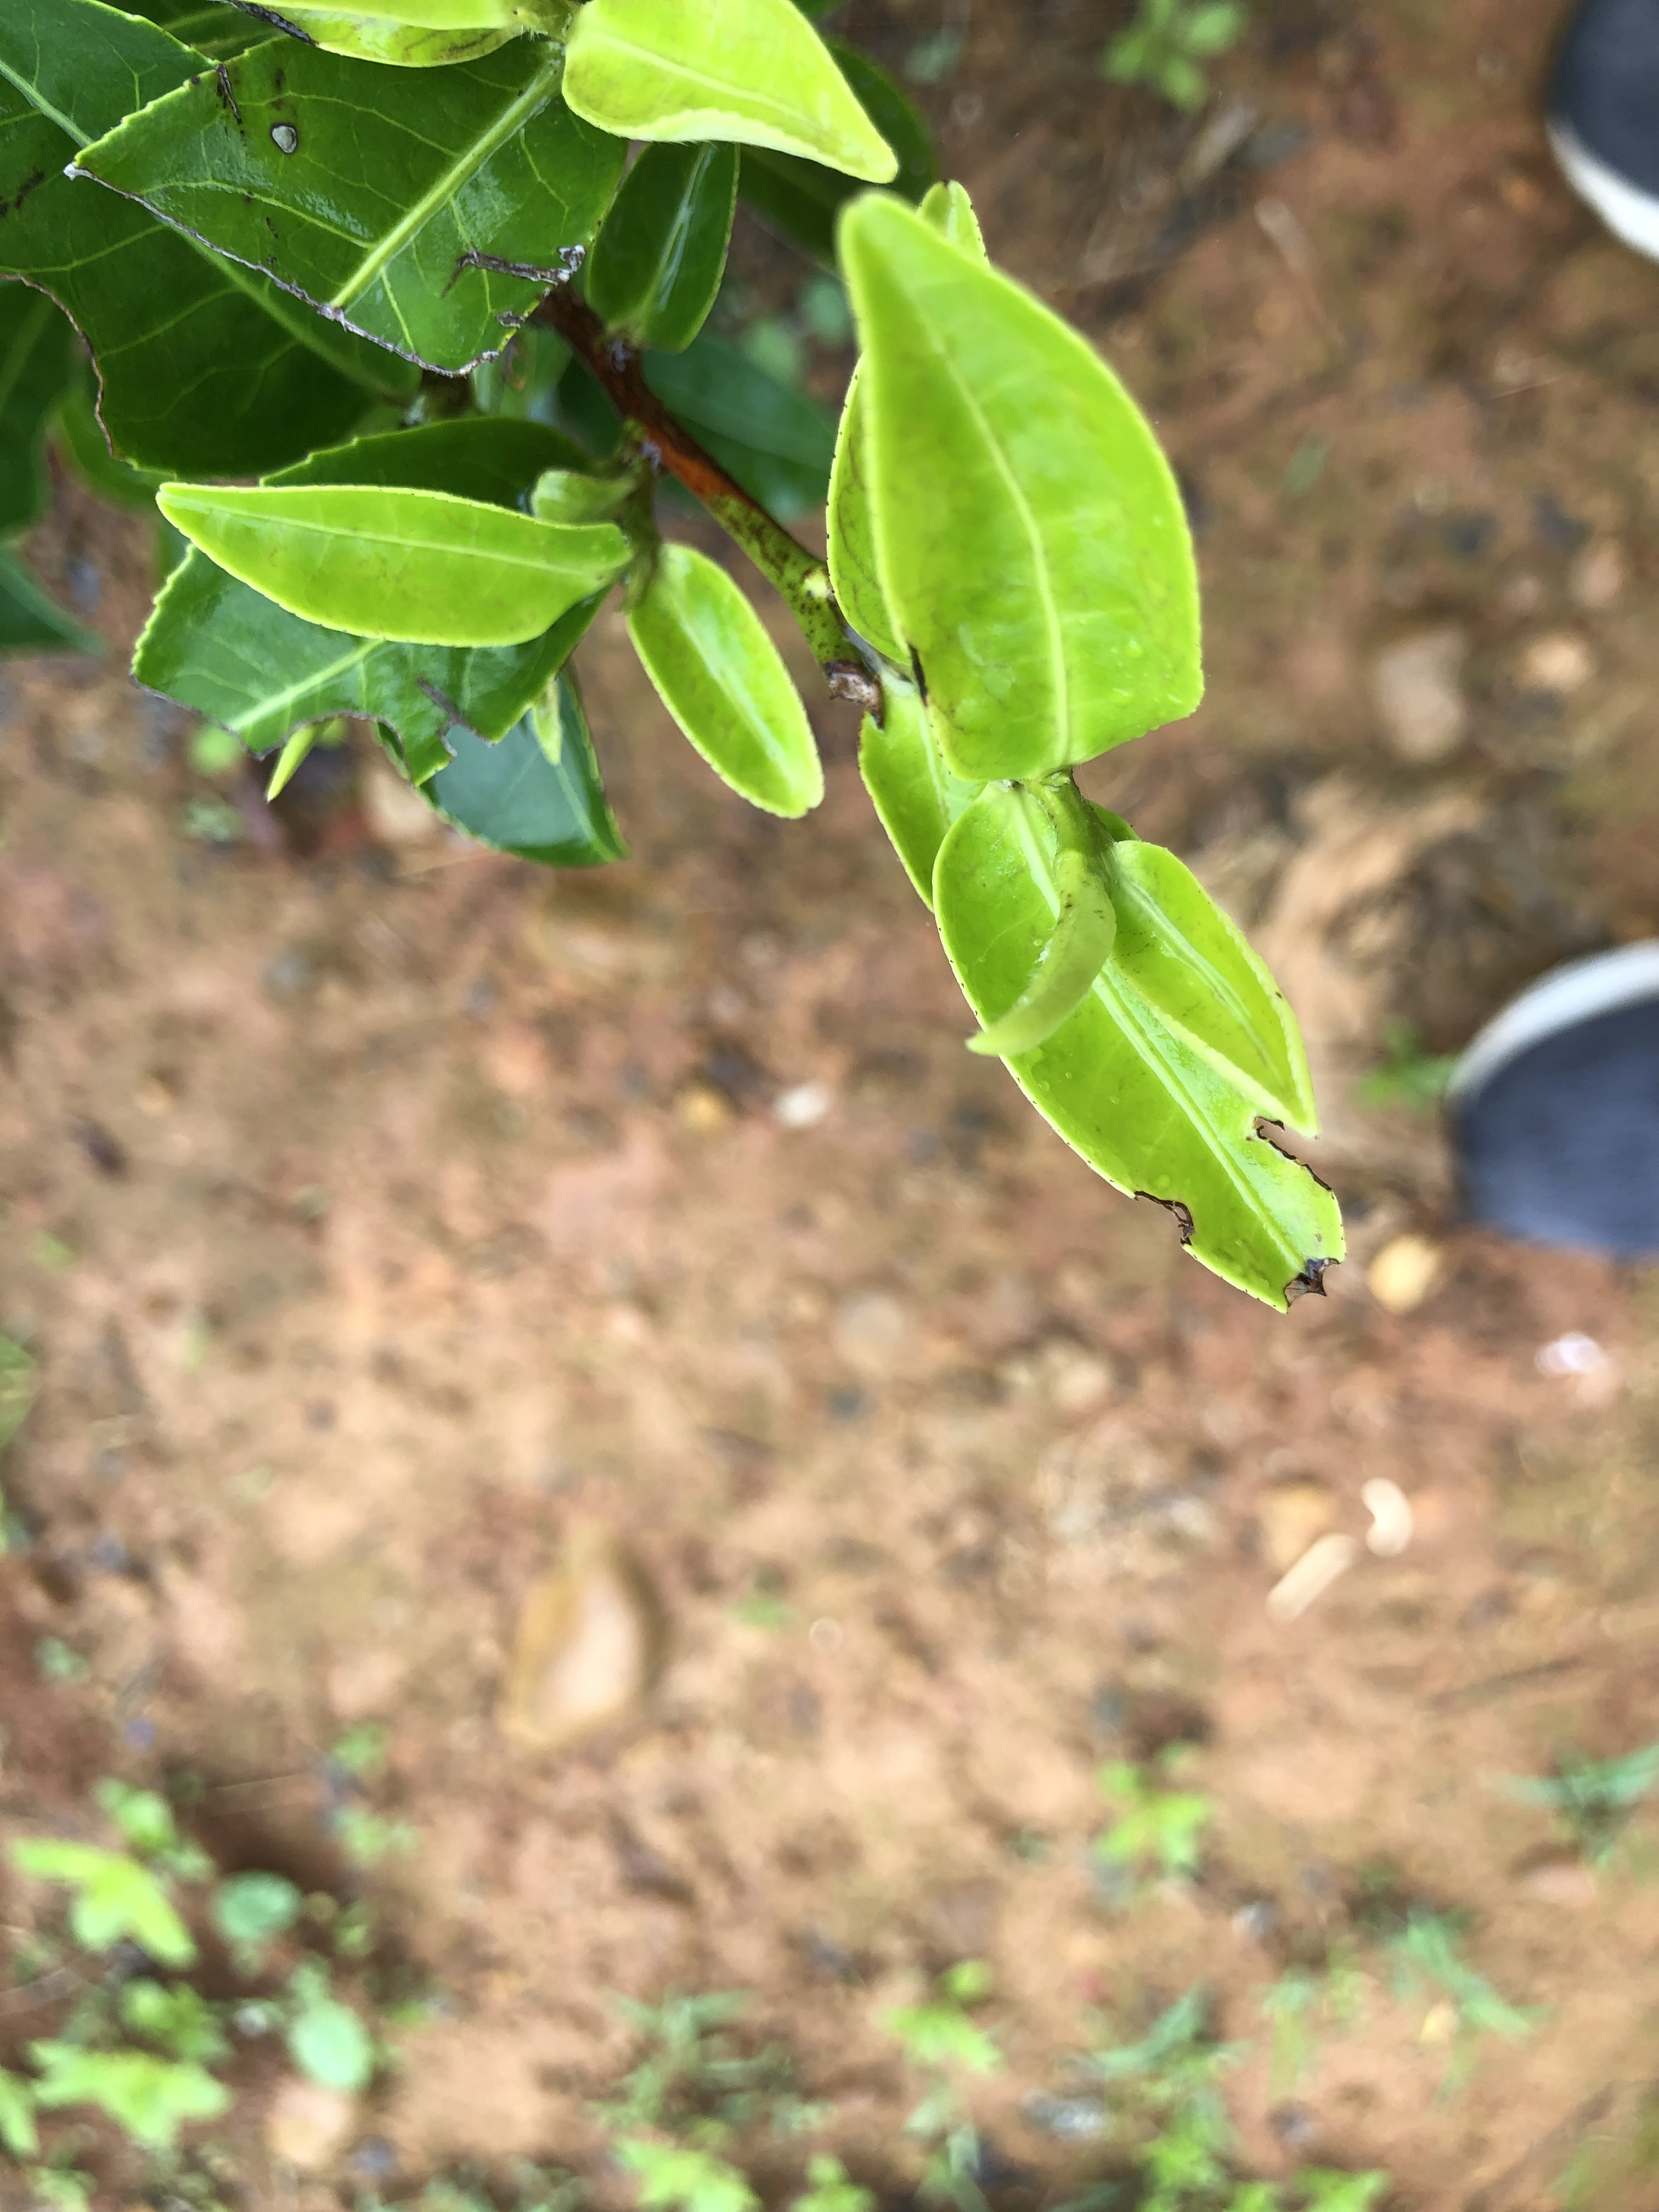brownblight: (31, 45, 582, 376)
thrips: (983, 850, 1328, 1310)
